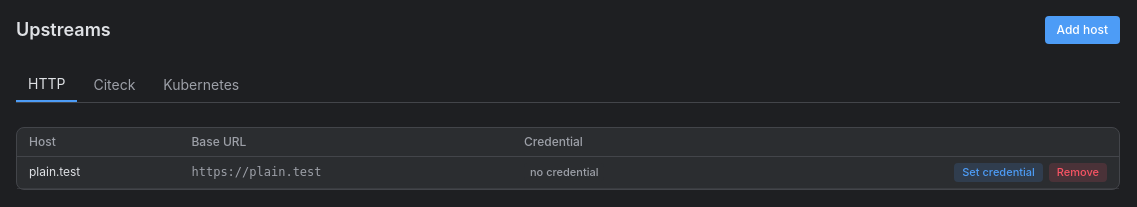
Scenario: <Hosts> (Upstreams.tsx) › filters upstreams into HTTP / Citeck tabs
Check: the text "plain.test" is shown, box [17,156,180,188]
Check: the text "cite.test" is not shown
# Switch to Citeck tab.
Click the tab "Citeck".
click(114, 85)  # box [81,68,147,102]
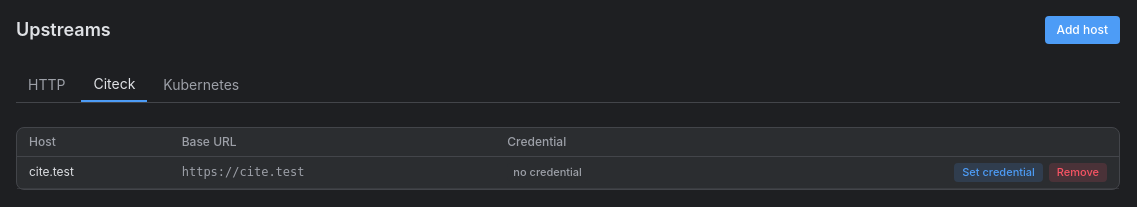
Check: the text "cite.test" is shown, box [17,156,170,188]
Check: the text "plain.test" is gone
